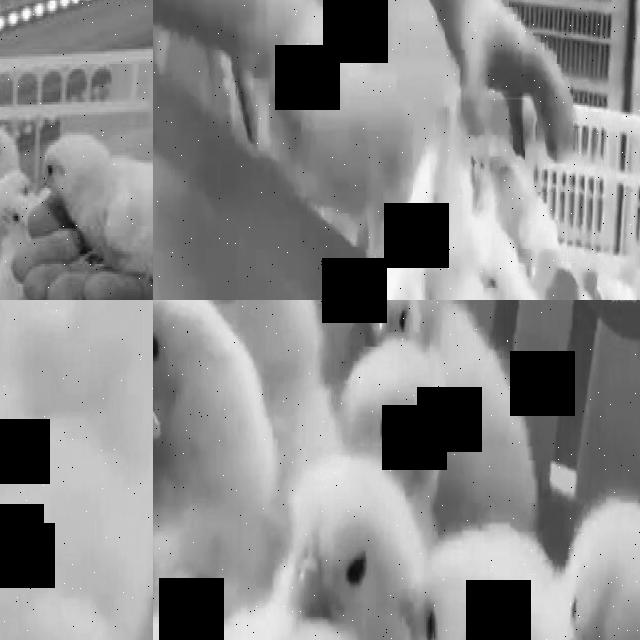chicks: (289, 466, 410, 631), (43, 121, 153, 283), (350, 349, 454, 501), (407, 547, 563, 640), (153, 300, 258, 433), (3, 431, 100, 568), (558, 483, 640, 640), (0, 592, 134, 640), (508, 158, 556, 249), (88, 300, 153, 367), (348, 300, 429, 350), (479, 254, 530, 300), (153, 309, 168, 463), (432, 261, 481, 300), (470, 152, 495, 213), (444, 173, 470, 221), (0, 193, 29, 234), (0, 128, 24, 174), (599, 274, 640, 300)
